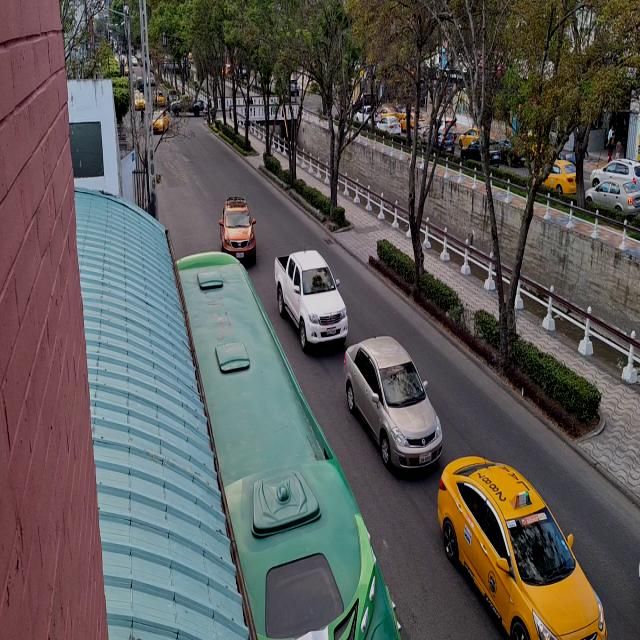CMT: (278, 250, 351, 346)
SED: (442, 458, 613, 640), (344, 336, 442, 472), (216, 193, 260, 262)
